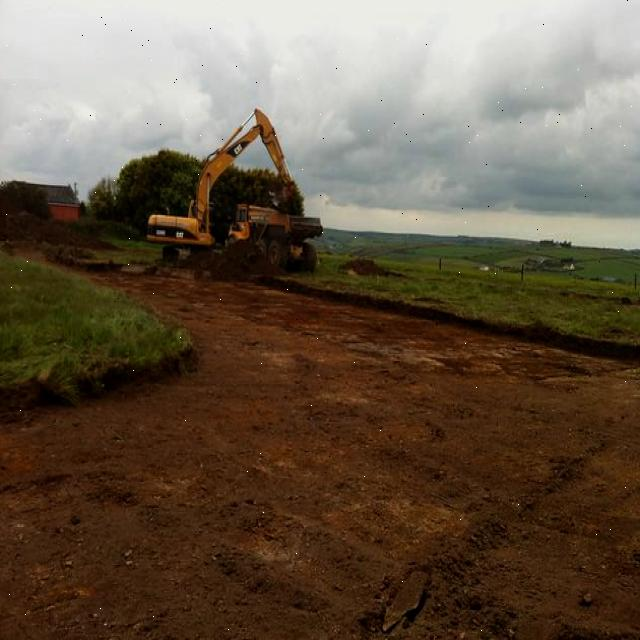Excavator: (146, 106, 324, 274)
